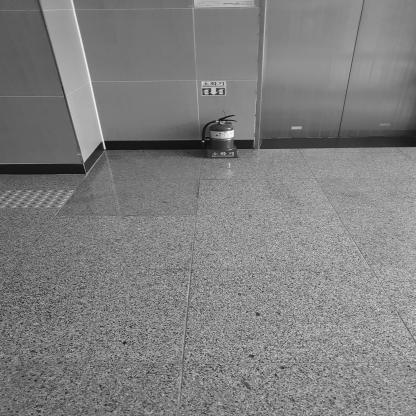FE: (202, 115, 237, 158)
